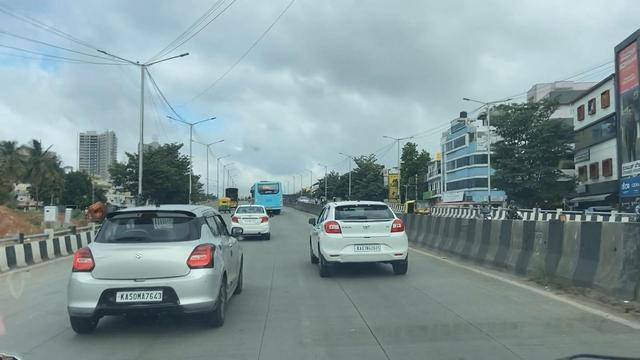HMV: (245, 167, 288, 222)
LMV: (49, 180, 250, 353), (305, 196, 415, 287), (221, 195, 273, 246)
